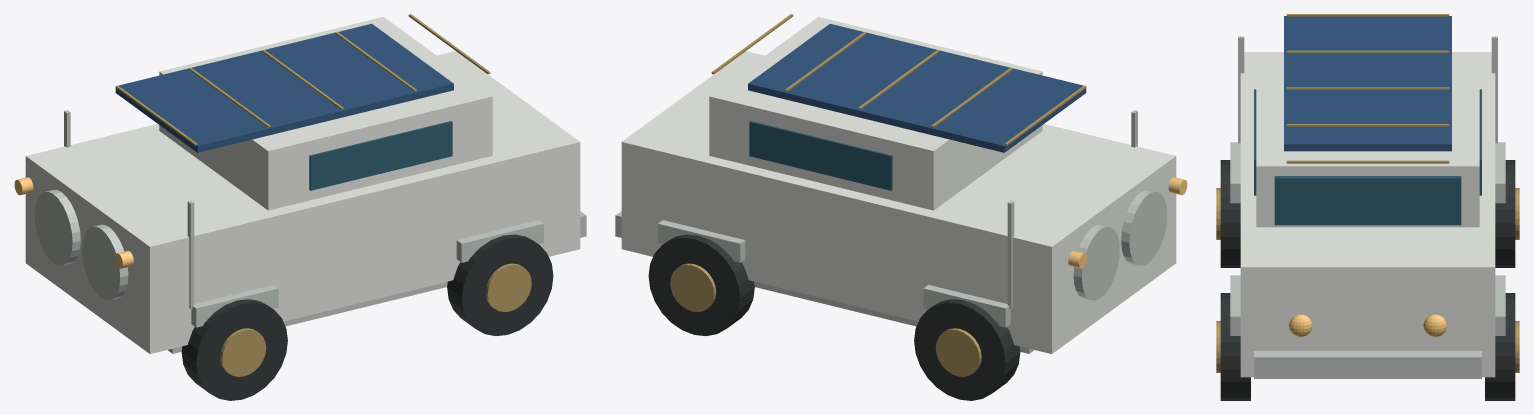
Rendered from space-car.glb.
The picture shows the model from 3 angles, left to right: view 1: azimuth 30°, elevation 25°; view 2: azimuth 150°, elevation 25°; view 3: azimuth 270°, elevation 25°; orthographic projection. The views are drawn at different scales.
Parts seen in each view (by area): view 1: Hull, Solar roof, Cabin, Wheel -1 -1.45, Wheel -1 1.45, Side window -1, Rear hatch 1, Rear hatch -1, Hub -1 -1.45, Hub -1 1.45, Fender -1 1.45, Fender -1 -1.45 (+2 smaller); view 2: Hull, Solar roof, Cabin, Wheel 1 -1.45, Wheel 1 1.45, Side window 1, Rear hatch -1, Rear hatch 1, Hub 1 -1.45, Hub 1 1.45, Fender 1 1.45, Fender 1 -1.45 (+2 smaller); view 3: Hull, Solar roof, Cabin, Windshield, Front bumper, Wheel -1 1.45, Wheel 1 1.45, Wheel -1 -1.45, Wheel 1 -1.45, Fender -1 -1.45, Fender 1 -1.45, Fender -1 1.45 (+12 smaller).
Boxes of the visible parts, left/top/right/bottom form: Hull: left=25, top=51, right=580, bottom=353; Solar roof: left=115, top=23, right=453, bottom=152; Cabin: left=159, top=17, right=492, bottom=210; Wheel -1 -1.45: left=181, top=299, right=287, bottom=400; Wheel -1 1.45: left=447, top=234, right=553, bottom=335; Side window -1: left=309, top=121, right=452, bottom=190; Rear hatch 1: left=34, top=190, right=80, bottom=265; Rear hatch -1: left=82, top=224, right=128, bottom=300; Hub -1 -1.45: left=220, top=328, right=266, bottom=376; Hub -1 1.45: left=485, top=263, right=531, bottom=311; Fender -1 1.45: left=456, top=220, right=543, bottom=262; Fender -1 -1.45: left=191, top=285, right=278, bottom=327; Hull: left=621, top=51, right=1176, bottom=353; Solar roof: left=748, top=23, right=1086, bottom=152; Cabin: left=709, top=17, right=1042, bottom=210; Wheel 1 -1.45: left=914, top=299, right=1020, bottom=400; Wheel 1 1.45: left=648, top=234, right=754, bottom=335; Side window 1: left=749, top=121, right=892, bottom=190; Rear hatch -1: left=1121, top=190, right=1167, bottom=265; Rear hatch 1: left=1073, top=224, right=1119, bottom=300; Hub 1 -1.45: left=935, top=328, right=981, bottom=376; Hub 1 1.45: left=670, top=263, right=716, bottom=311; Fender 1 1.45: left=658, top=220, right=745, bottom=262; Fender 1 -1.45: left=923, top=285, right=1010, bottom=327; Hull: left=1240, top=52, right=1495, bottom=377; Solar roof: left=1284, top=16, right=1451, bottom=151; Cabin: left=1256, top=54, right=1479, bottom=227; Windshield: left=1274, top=176, right=1461, bottom=225; Front bumper: left=1254, top=351, right=1481, bottom=378; Wheel -1 1.45: left=1220, top=293, right=1250, bottom=400; Wheel 1 1.45: left=1485, top=293, right=1515, bottom=400; Wheel -1 -1.45: left=1220, top=160, right=1240, bottom=267; Wheel 1 -1.45: left=1495, top=160, right=1515, bottom=267; Fender -1 -1.45: left=1230, top=142, right=1240, bottom=203; Fender 1 -1.45: left=1495, top=142, right=1505, bottom=203; Fender -1 1.45: left=1230, top=275, right=1240, bottom=335.
Size of the model in its own units: 5.05 by 2.46 by 2.8.
